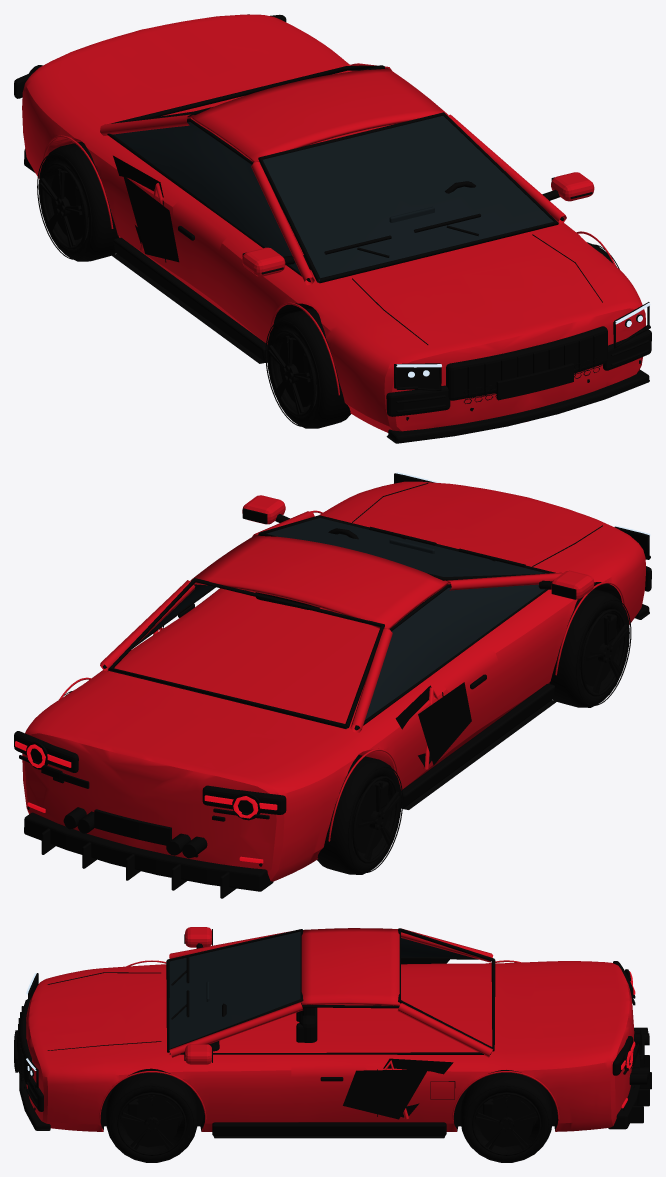
File: ferrari.glb
3 renders of one model, top to bottom at view 1: azimuth 30°, elevation 25°; view 2: azimuth 150°, elevation 25°; view 3: azimuth 270°, elevation 25°, orthographic. The views are drawn at different scales.
Visible parts, largest first — view 1: chassis.001__Automotive clearcoat, chassis.001__Solar glass, chassis.001__Vehicle detail atlas, wheel_FL.001__Vehicle detail atlas, wheel_RL.001__Vehicle detail atlas; view 2: chassis.001__Automotive clearcoat, chassis.001__Vehicle detail atlas, chassis.001__Solar glass, wheel_RL.001__Vehicle detail atlas, wheel_FL.001__Vehicle detail atlas, chassis.001__Red LED optics; view 3: chassis.001__Automotive clearcoat, chassis.001__Vehicle detail atlas, chassis.001__Solar glass, wheel_FR.001__Vehicle detail atlas, wheel_RR.001__Vehicle detail atlas.
Boxes of the visible parts, bbox=[...] form: chassis.001__Automotive clearcoat: bbox=[22, 14, 645, 432]; chassis.001__Solar glass: bbox=[113, 116, 553, 280]; chassis.001__Vehicle detail atlas: bbox=[14, 14, 651, 443]; wheel_FL.001__Vehicle detail atlas: bbox=[265, 308, 350, 428]; wheel_RL.001__Vehicle detail atlas: bbox=[37, 141, 118, 261]; chassis.001__Automotive clearcoat: bbox=[22, 481, 645, 881]; chassis.001__Vehicle detail atlas: bbox=[14, 473, 651, 898]; chassis.001__Solar glass: bbox=[145, 518, 546, 728]; wheel_RL.001__Vehicle detail atlas: bbox=[317, 755, 402, 874]; wheel_FL.001__Vehicle detail atlas: bbox=[549, 589, 631, 707]; chassis.001__Red LED optics: bbox=[15, 741, 277, 863]; chassis.001__Automotive clearcoat: bbox=[26, 927, 634, 1131]; chassis.001__Vehicle detail atlas: bbox=[14, 928, 651, 1138]; chassis.001__Solar glass: bbox=[169, 931, 470, 1048]; wheel_FR.001__Vehicle detail atlas: bbox=[105, 1069, 197, 1162]; wheel_RR.001__Vehicle detail atlas: bbox=[460, 1070, 552, 1162].
Bounding box in the file's own units: 2.28 × 1.23 × 4.77.
8 materials, 6 textured.
